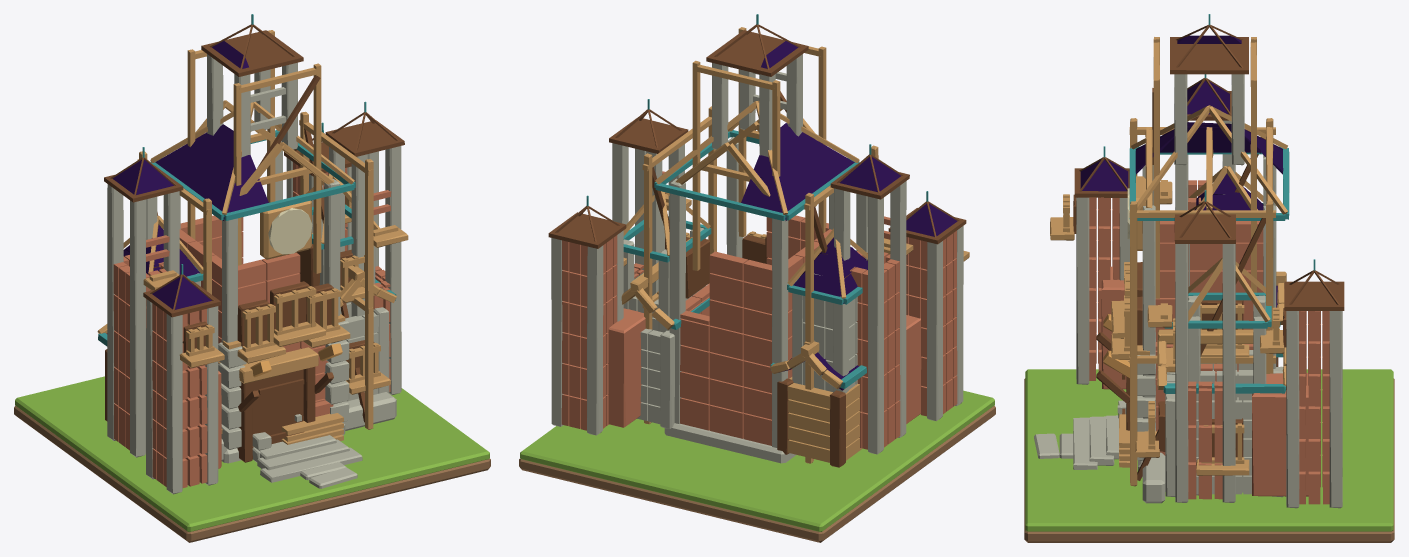
The model's file is town_hall_l14_construction_LOD1.glb.
3 views of the same model, side by side, from view 1: azimuth 30°, elevation 25°; view 2: azimuth 150°, elevation 25°; view 3: azimuth 270°, elevation 25° (orthographic). The views are drawn at different scales.
Parts seen in each view (by area): view 1: town_hall_l14_construction_foundation.001, town_hall_l14_construction_grass_tile.001, town_hall_l14_construction_earth_tile.001, town_hall_l14_construction_path_stone.005; view 2: town_hall_l14_construction_foundation.001, town_hall_l14_construction_grass_tile.001, town_hall_l14_construction_earth_tile.001; view 3: town_hall_l14_construction_foundation.001, town_hall_l14_construction_grass_tile.001, town_hall_l14_construction_earth_tile.001, town_hall_l14_construction_path_stone.005.
Part boxes in pixels (x1,y1,x2,y2): town_hall_l14_construction_foundation.001: [97, 14, 408, 494]; town_hall_l14_construction_grass_tile.001: [15, 376, 489, 531]; town_hall_l14_construction_earth_tile.001: [14, 405, 490, 542]; town_hall_l14_construction_path_stone.005: [309, 467, 357, 488]; town_hall_l14_construction_foundation.001: [548, 14, 969, 467]; town_hall_l14_construction_grass_tile.001: [520, 390, 994, 531]; town_hall_l14_construction_earth_tile.001: [519, 405, 995, 542]; town_hall_l14_construction_foundation.001: [1050, 14, 1344, 508]; town_hall_l14_construction_grass_tile.001: [1025, 369, 1393, 531]; town_hall_l14_construction_earth_tile.001: [1024, 378, 1394, 542]; town_hall_l14_construction_path_stone.005: [1034, 433, 1059, 458].
Size of the model in its own units: 3.6 by 4.85 by 3.6.
